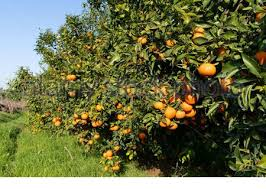orange: (197, 63, 218, 78)
